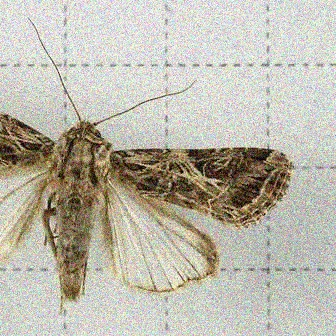Spodoptera litura: (0, 17, 296, 315)
